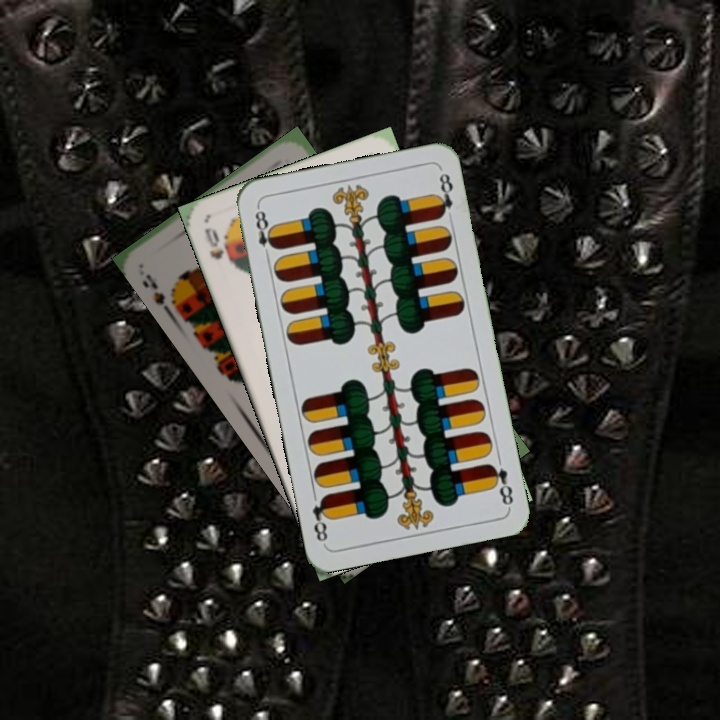E8: (251, 203, 279, 262), (484, 459, 516, 510)
S9: (138, 269, 185, 320)
SO: (200, 223, 234, 266)
